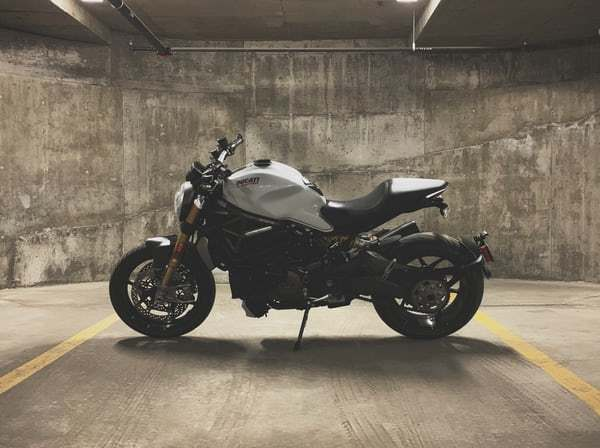20_label: (97, 125, 528, 343)
